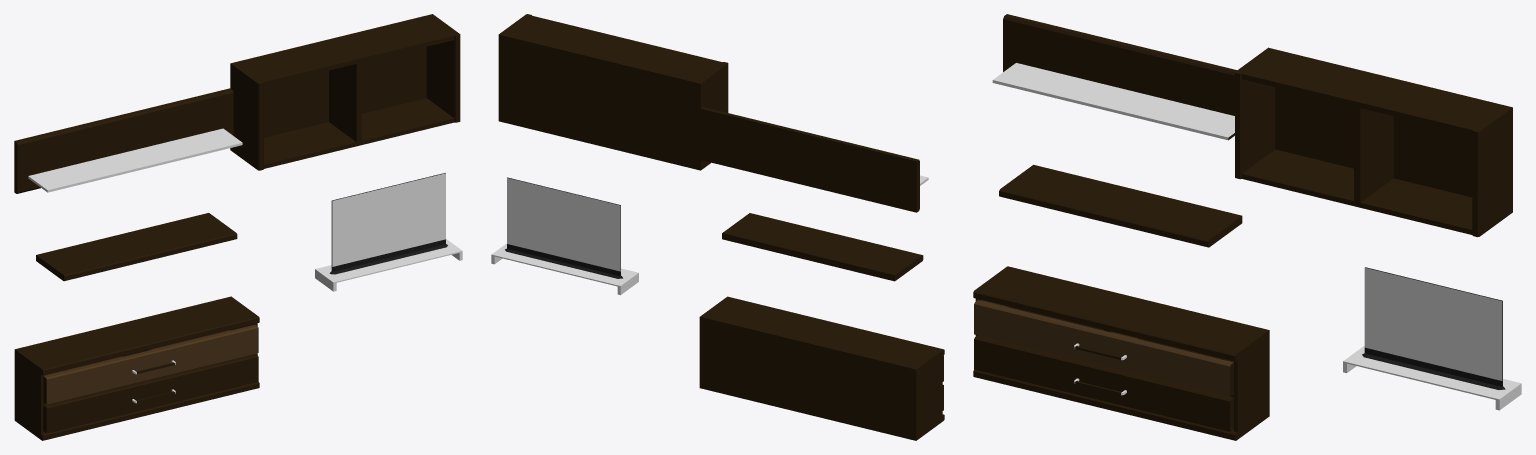
Rendered from furniture.dae.
3 views of the same model, side by side, from view 1: azimuth 30°, elevation 25°; view 2: azimuth 150°, elevation 25°; view 3: azimuth 330°, elevation 25° (orthographic). The views are drawn at different scales.
Visible parts, largest first — view 1: shelves, furniture, glass_shelf, TV, wood_shelf, TV_glass_support; view 2: shelves, furniture, glass_shelf, TV, wood_shelf, TV_glass_support; view 3: shelves, furniture, glass_shelf, TV, wood_shelf, TV_glass_support.
Boxes of the visible parts, <box> form: shelves: <box>230,14,460,170</box>; furniture: <box>14,296,259,440</box>; glass_shelf: <box>14,88,242,193</box>; TV: <box>329,173,447,274</box>; wood_shelf: <box>36,213,237,281</box>; TV_glass_support: <box>315,239,462,291</box>; shelves: <box>498,14,728,170</box>; furniture: <box>699,296,944,440</box>; glass_shelf: <box>700,107,928,212</box>; TV: <box>505,177,622,278</box>; wood_shelf: <box>722,213,923,281</box>; TV_glass_support: <box>491,243,638,295</box>; shelves: <box>1235,47,1512,237</box>; furniture: <box>973,266,1269,440</box>; glass_shelf: <box>992,14,1237,140</box>; TV: <box>1362,267,1505,389</box>; wood_shelf: <box>999,164,1242,247</box>; TV_glass_support: <box>1343,346,1521,410</box>.
Bounding box in the file's own units: 2.18 × 0.2926 × 1.48.
